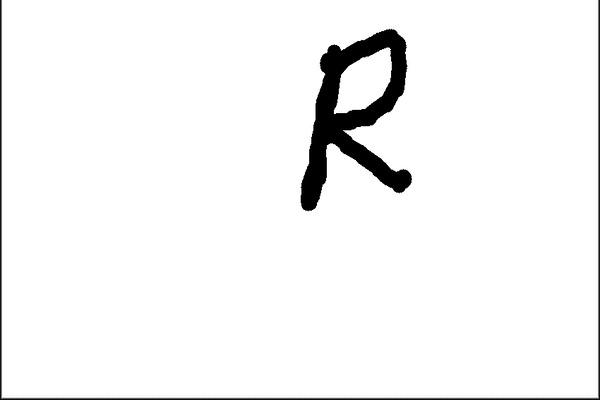R: (289, 20, 425, 218)
